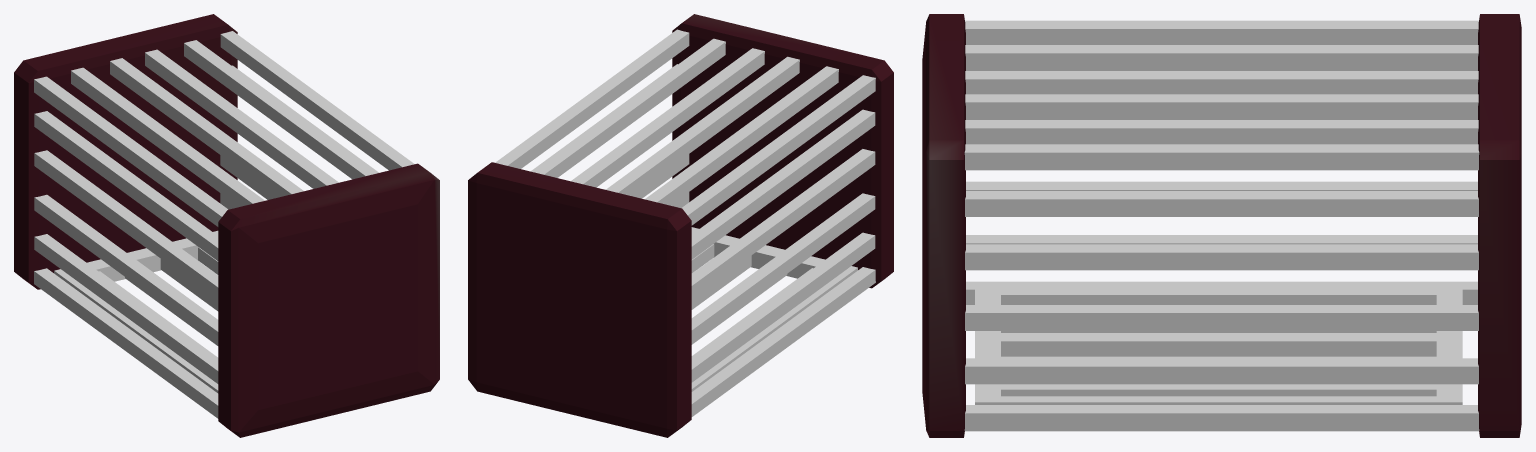
Rendered from Cage.fbx.
3 views of the same model, side by side, from view 1: azimuth 30°, elevation 25°; view 2: azimuth 150°, elevation 25°; view 3: azimuth 270°, elevation 25° (orthographic). The views are drawn at different scales.
Parts seen in each view (by area): view 1: Cube, Cube.007; view 2: Cube, Cube.007; view 3: Cube, Cube.007.
Part boxes in pixels (x1,y1,x2,y2): Cube: (14, 14, 439, 437); Cube.007: (54, 230, 218, 393); Cube: (468, 14, 893, 437); Cube.007: (691, 227, 857, 391); Cube: (922, 14, 1521, 437); Cube.007: (975, 289, 1462, 404).
Size of the model in its own units: 1.05 by 1.05 by 1.91.
